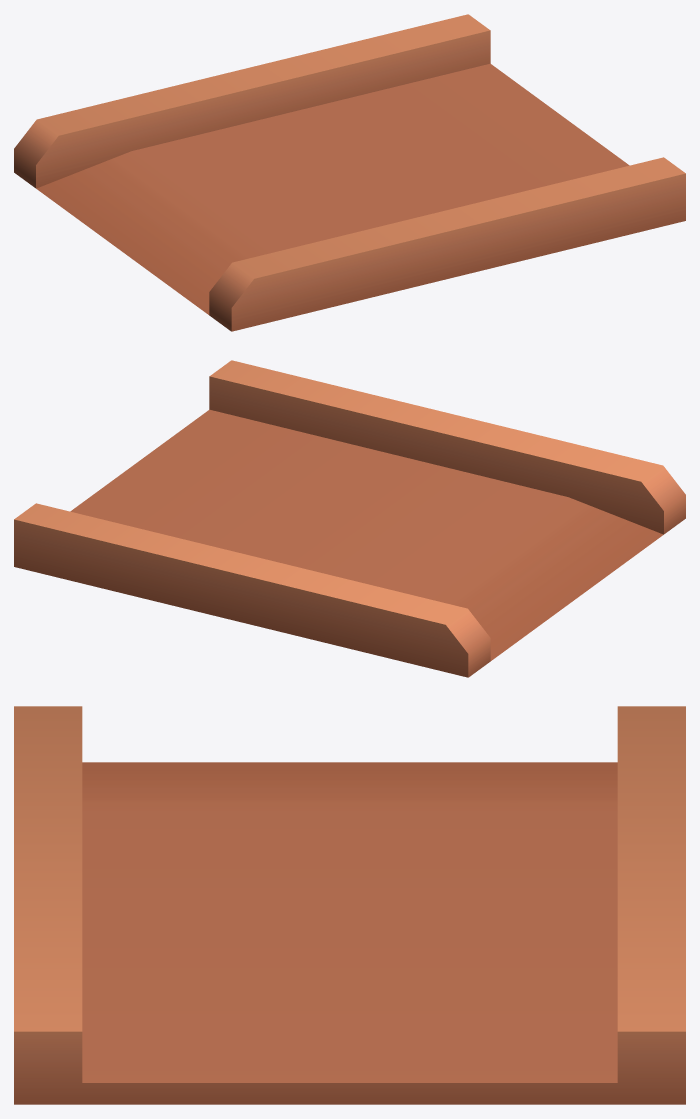
Rendered from kenney-castle-bridge-draw.glb.
The picture shows the model from 3 angles, top to bottom: view 1: azimuth 30°, elevation 25°; view 2: azimuth 150°, elevation 25°; view 3: azimuth 270°, elevation 25°; orthographic projection. The views are drawn at different scales.
Parts seen in each view (by area): view 1: bridge-draw; view 2: bridge-draw; view 3: bridge-draw.
Part boxes in pixels (x1,y1,x2,y2): bridge-draw: (14,14,685,331); bridge-draw: (14,360,685,677); bridge-draw: (14,706,685,1104).
Size of the model in its own units: 1 by 0.0999 by 0.8311.
Materials: 1 (1 with a texture image).
